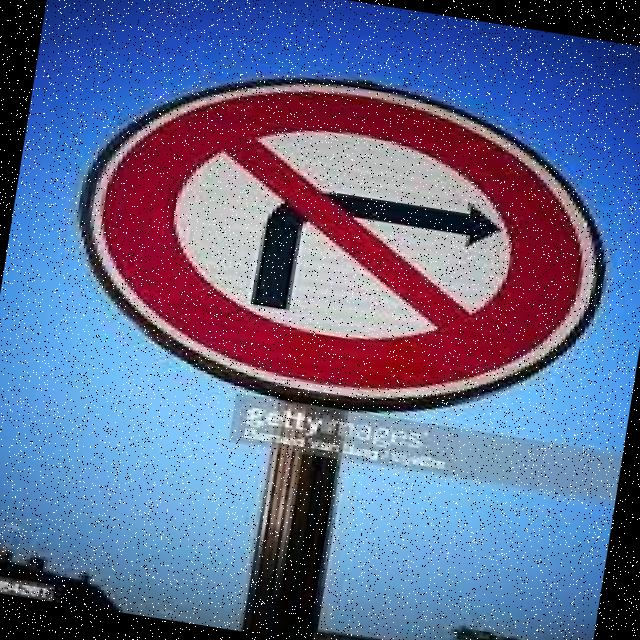do_not_turn_right: (44, 29, 634, 452)
